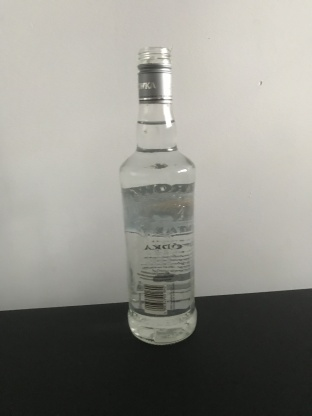nakretka: (135, 44, 174, 105)
